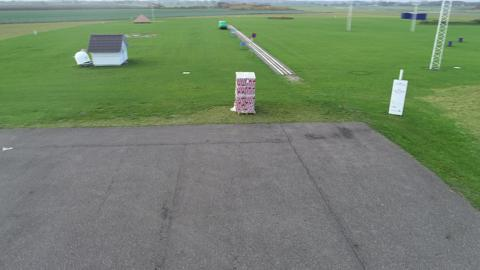RockwoolPallet: (235, 71, 256, 115)
